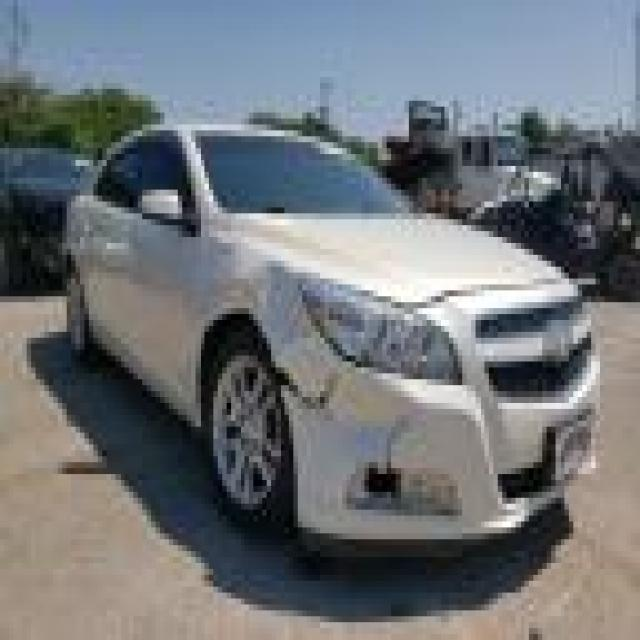minor: (229, 284, 388, 462)
